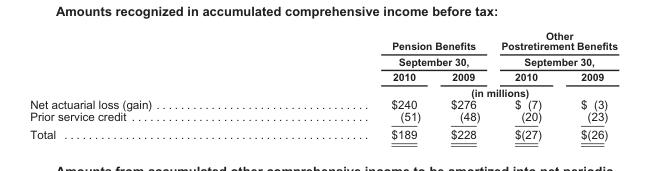table: (29, 29, 616, 140)
table column: (29, 29, 270, 140), (270, 29, 435, 140), (490, 29, 560, 140), (560, 29, 616, 140), (435, 29, 490, 140)
table column header: (29, 29, 616, 97)
table row: (29, 29, 616, 68), (29, 68, 616, 84), (29, 110, 616, 125), (29, 125, 616, 140), (29, 84, 616, 97), (29, 97, 616, 110)
table spanning cell: (270, 29, 490, 68), (490, 29, 616, 68), (270, 84, 616, 97)
